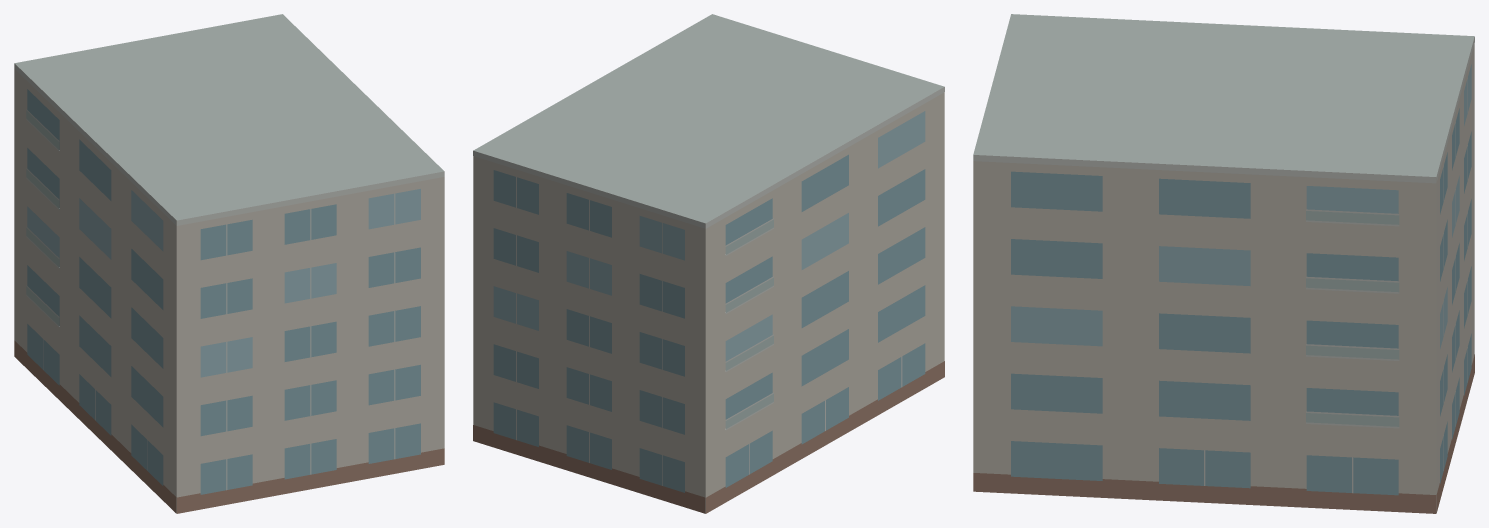
Rendered from survey-upis-32662559.glb.
The picture shows the model from 3 angles, left to right: view 1: azimuth 30°, elevation 25°; view 2: azimuth 150°, elevation 25°; view 3: azimuth 270°, elevation 25°; orthographic projection. The views are drawn at different scales.
Visible parts, largest first — view 1: survey-upis-32662559.tmp; view 2: survey-upis-32662559.tmp; view 3: survey-upis-32662559.tmp.
Part boxes in pixels (box(x1,y1,x2,y2)): survey-upis-32662559.tmp: box(14, 14, 444, 513); survey-upis-32662559.tmp: box(473, 14, 944, 513); survey-upis-32662559.tmp: box(973, 14, 1474, 513).
Bounding box in the file's own units: 13.72 × 13.2 × 17.83.
